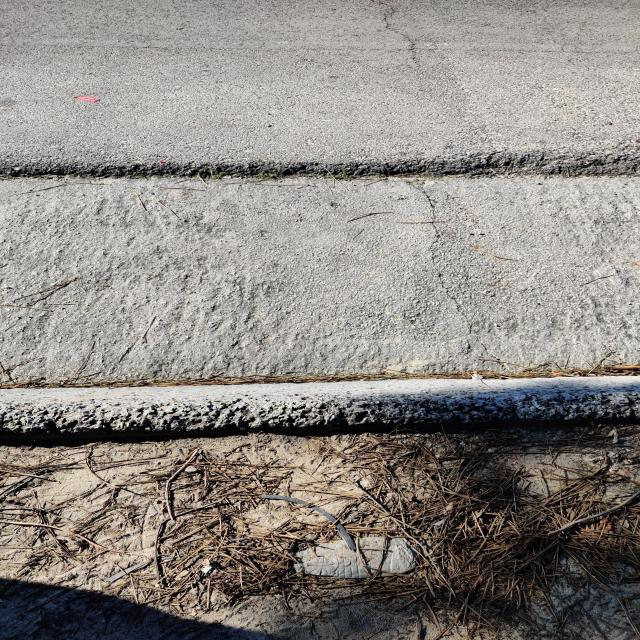litter: (291, 534, 419, 580), (75, 93, 104, 105)
